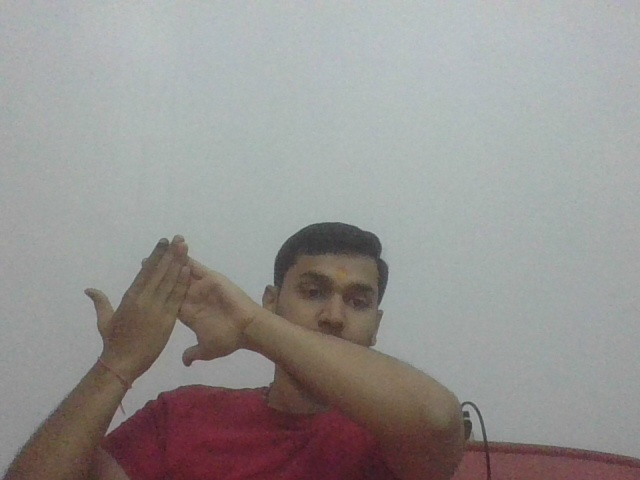H: (83, 233, 245, 371)
